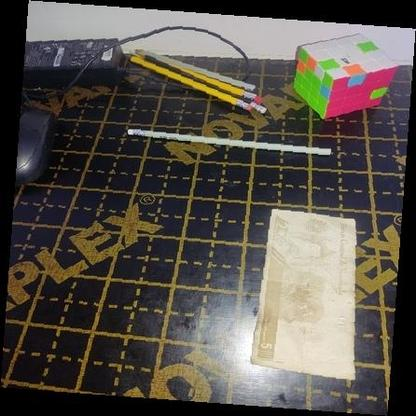five-back-vef: (250, 208, 357, 381)
